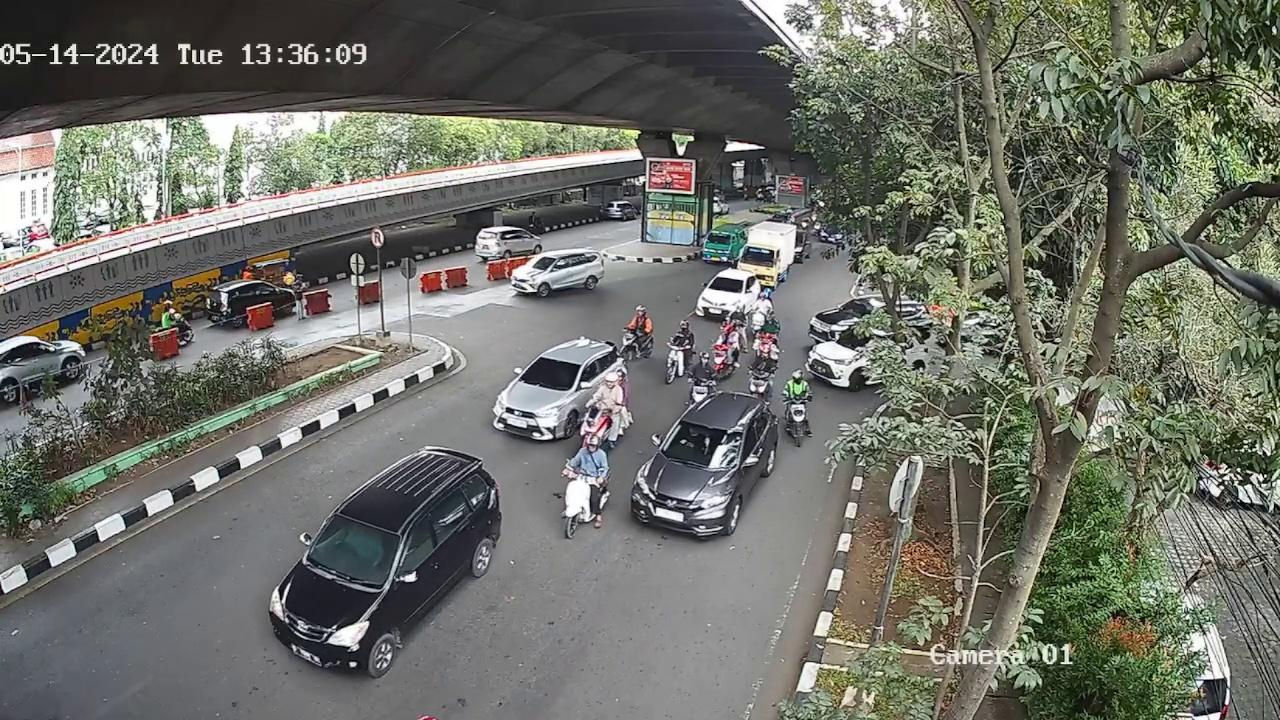tidak-pakai: (346, 523, 381, 562)
windshield: (312, 515, 400, 580), (659, 417, 746, 467), (522, 355, 580, 392)
